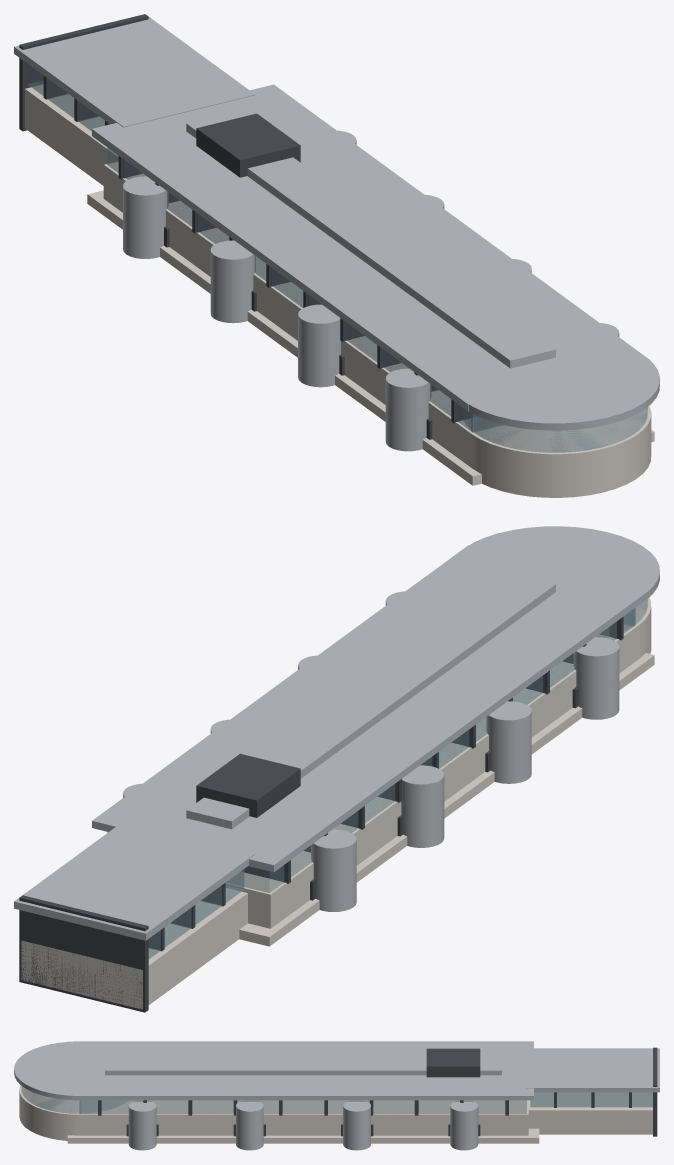
Rendered from concourse.glb.
3 views of the same model, one above another, from view 1: azimuth 30°, elevation 25°; view 2: azimuth 150°, elevation 25°; view 3: azimuth 270°, elevation 25° (orthographic). The views are drawn at different scales.
Visible parts, largest first — view 1: pier_roof, roof_spine, link_roof, pier_nose_roof, pier_nose, pier_body, link_body, pier_plinth, roof_plant, pier_nose_glass, pier_glass, rotunda_w3 (+5 smaller); view 2: pier_roof, link_roof, roof_spine, pier_body, pier_nose_roof, link_body, link_collar, pier_plinth, pier_glass, roof_plant, rotunda_w3, rotunda_w0 (+4 smaller); view 3: pier_roof, pier_body, roof_spine, link_roof, link_body, pier_glass, pier_plinth, pier_nose_roof, pier_nose, link_glass, roof_plant, rotunda_e0 (+5 smaller).
Part boxes in pixels (bbox=[...]): pier_roof: bbox=[92, 84, 650, 411]; roof_spine: bbox=[186, 112, 555, 368]; link_roof: bbox=[14, 16, 255, 127]; pier_nose_roof: bbox=[450, 334, 659, 430]; pier_nose: bbox=[461, 406, 651, 497]; pier_body: bbox=[103, 161, 503, 467]; link_body: bbox=[25, 85, 118, 185]; pier_plinth: bbox=[87, 190, 654, 485]; roof_plant: bbox=[196, 113, 300, 177]; pier_nose_glass: bbox=[464, 407, 647, 452]; pier_glass: bbox=[107, 147, 499, 432]; rotunda_w3: bbox=[385, 368, 431, 451]; pier_roof: bbox=[92, 545, 650, 872]; link_roof: bbox=[14, 821, 255, 940]; roof_spine: bbox=[186, 573, 555, 829]; pier_body: bbox=[226, 625, 638, 928]; pier_nose_roof: bbox=[450, 526, 659, 614]; link_body: bbox=[21, 888, 247, 1009]; link_collar: bbox=[19, 895, 148, 1012]; pier_plinth: bbox=[239, 653, 654, 946]; pier_glass: bbox=[107, 608, 634, 892]; roof_plant: bbox=[196, 753, 300, 817]; rotunda_w3: bbox=[573, 637, 619, 719]; rotunda_w0: bbox=[311, 829, 356, 911]; pier_roof: bbox=[73, 1041, 533, 1100]; pier_body: bbox=[78, 1100, 528, 1135]; roof_spine: bbox=[105, 1057, 501, 1075]; link_roof: bbox=[526, 1048, 659, 1092]; link_body: bbox=[528, 1092, 652, 1134]; pier_glass: bbox=[80, 1100, 526, 1113]; pier_plinth: bbox=[67, 1128, 539, 1143]; pier_nose_roof: bbox=[14, 1041, 132, 1099]; pier_nose: bbox=[19, 1085, 128, 1140]; link_glass: bbox=[530, 1092, 652, 1107]; roof_plant: bbox=[426, 1048, 480, 1077]; rotunda_e0: bbox=[450, 1100, 478, 1150].
Bounding box in the file's own units: 30 × 12.4 × 120.
